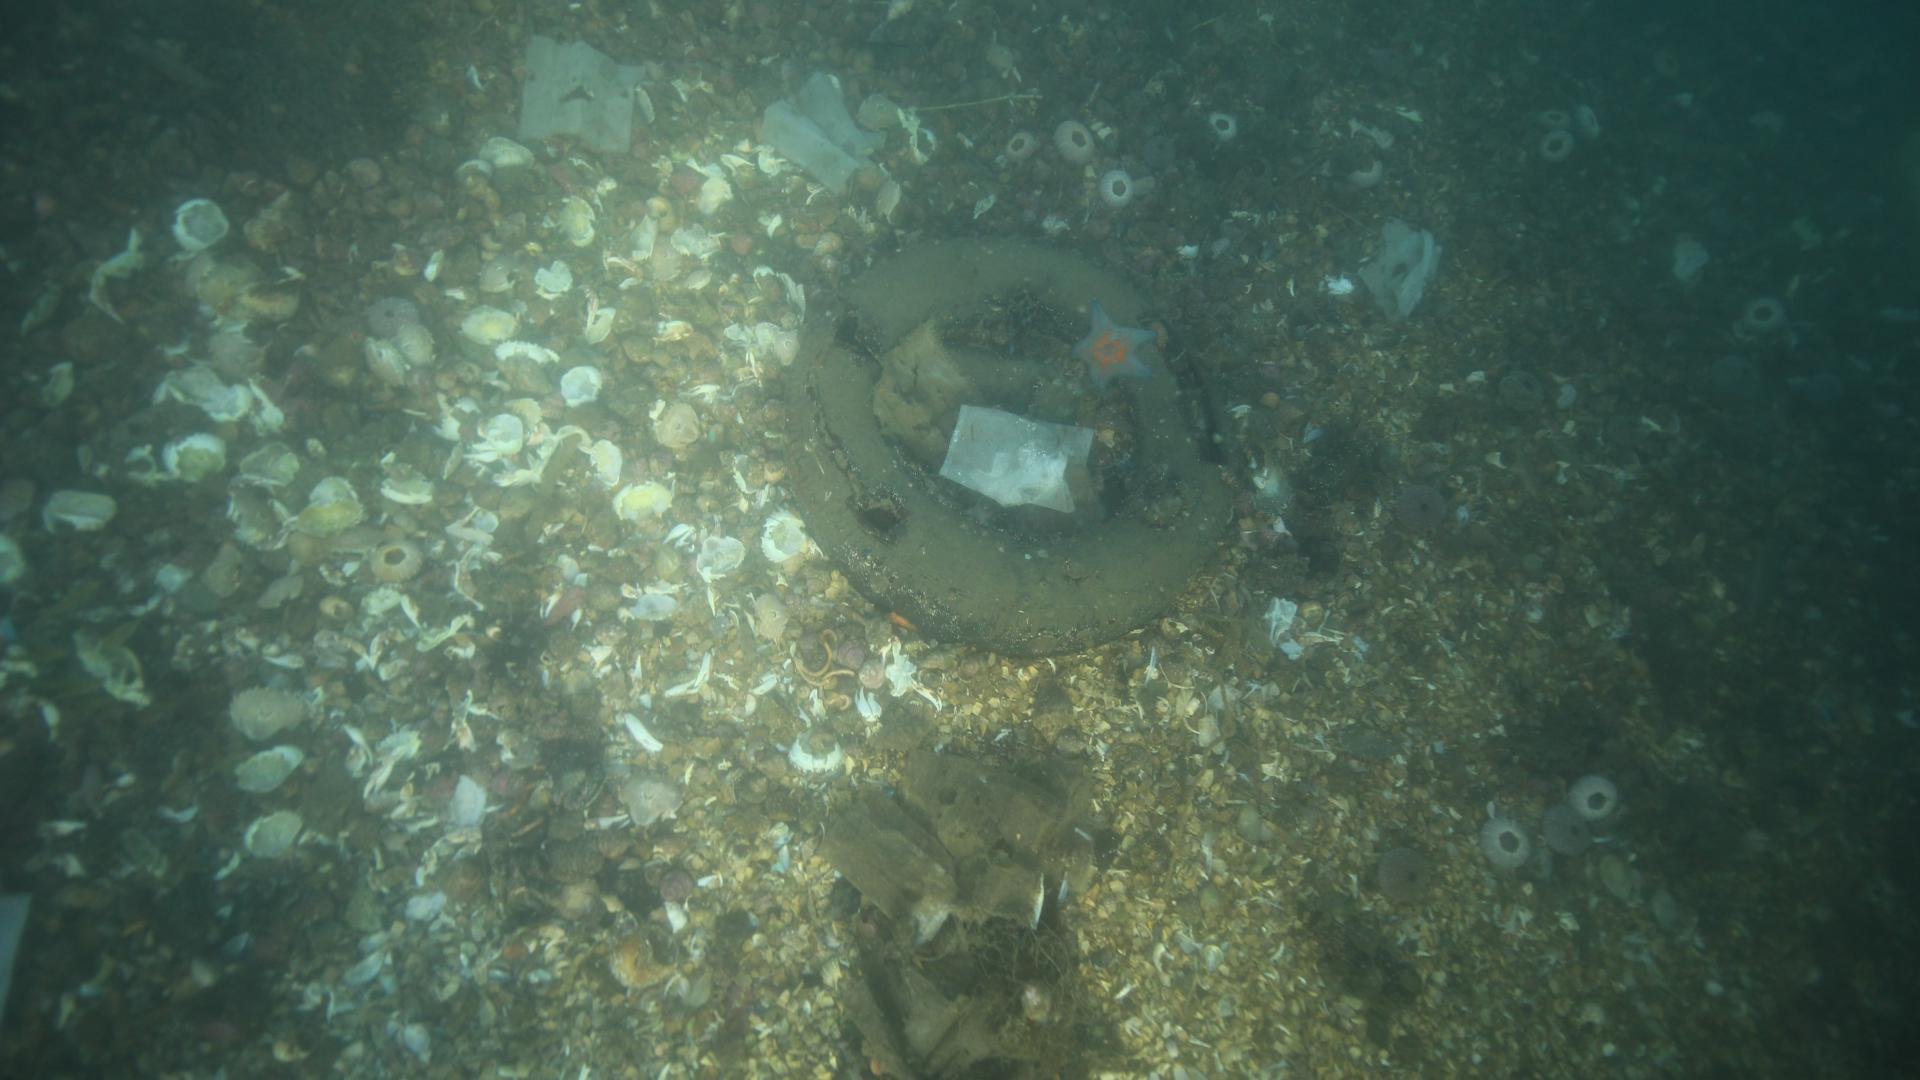tire: (796, 241, 1230, 655)
